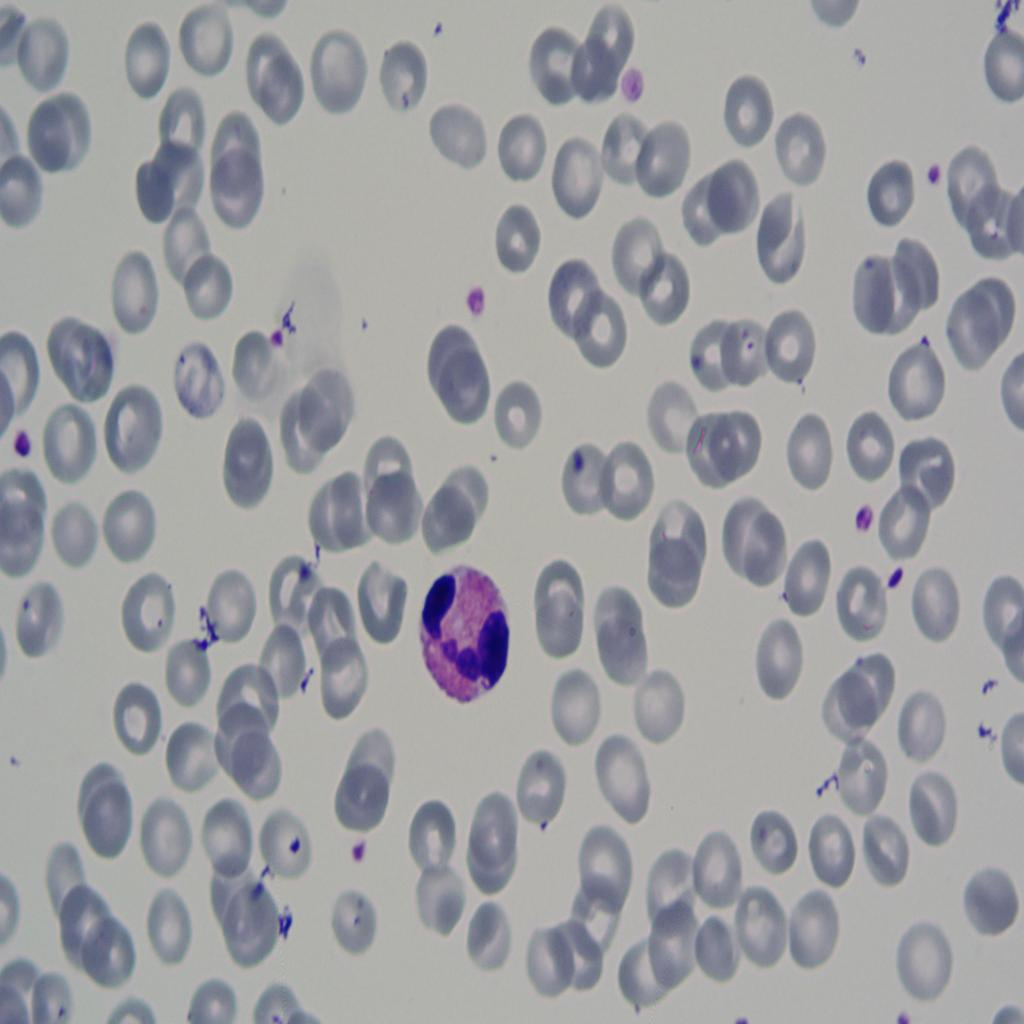Eosinofil: (403, 544, 524, 718)
Platelet: (610, 46, 654, 114), (460, 272, 496, 324), (852, 492, 876, 552), (569, 445, 597, 496), (346, 836, 379, 875), (281, 826, 307, 872), (923, 150, 943, 198), (9, 424, 31, 466), (264, 328, 292, 355), (888, 558, 906, 596), (920, 328, 930, 354)
